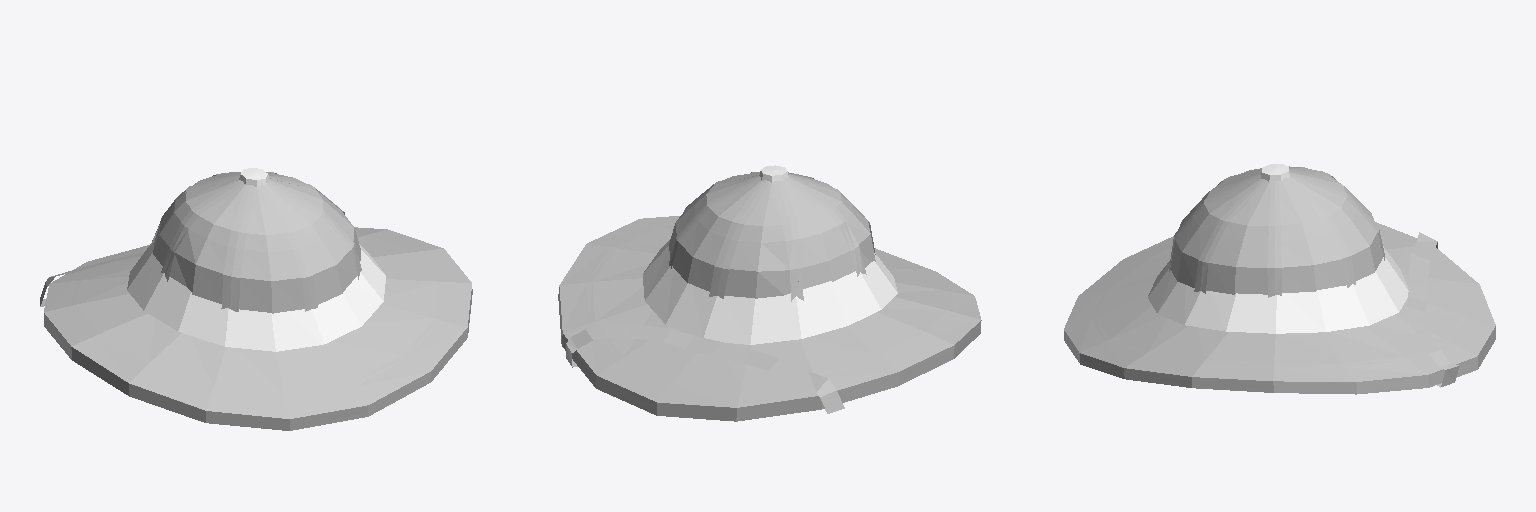
Rendered from safari_hat.obj.
3 views of the same model, side by side, from view 1: azimuth 30°, elevation 25°; view 2: azimuth 150°, elevation 25°; view 3: azimuth 270°, elevation 25° (orthographic).
Parts seen in each view (by area): view 1: safari_Cylinder.005; view 2: safari_Cylinder.005; view 3: safari_Cylinder.005.
Part boxes in pixels (bbox=[...]): safari_Cylinder.005: bbox=[40, 168, 472, 430]; safari_Cylinder.005: bbox=[558, 165, 981, 421]; safari_Cylinder.005: bbox=[1064, 164, 1495, 394].
Size of the model in its own units: 1.01 by 0.4438 by 1.02.